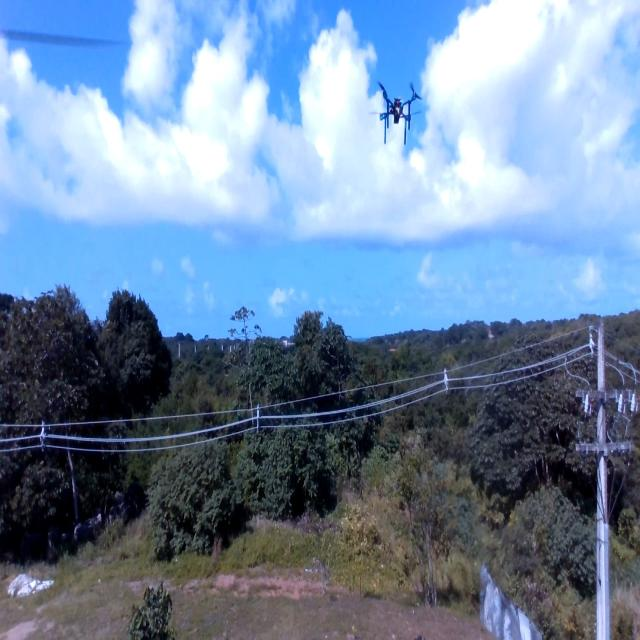-uav-: (361, 66, 427, 156)
